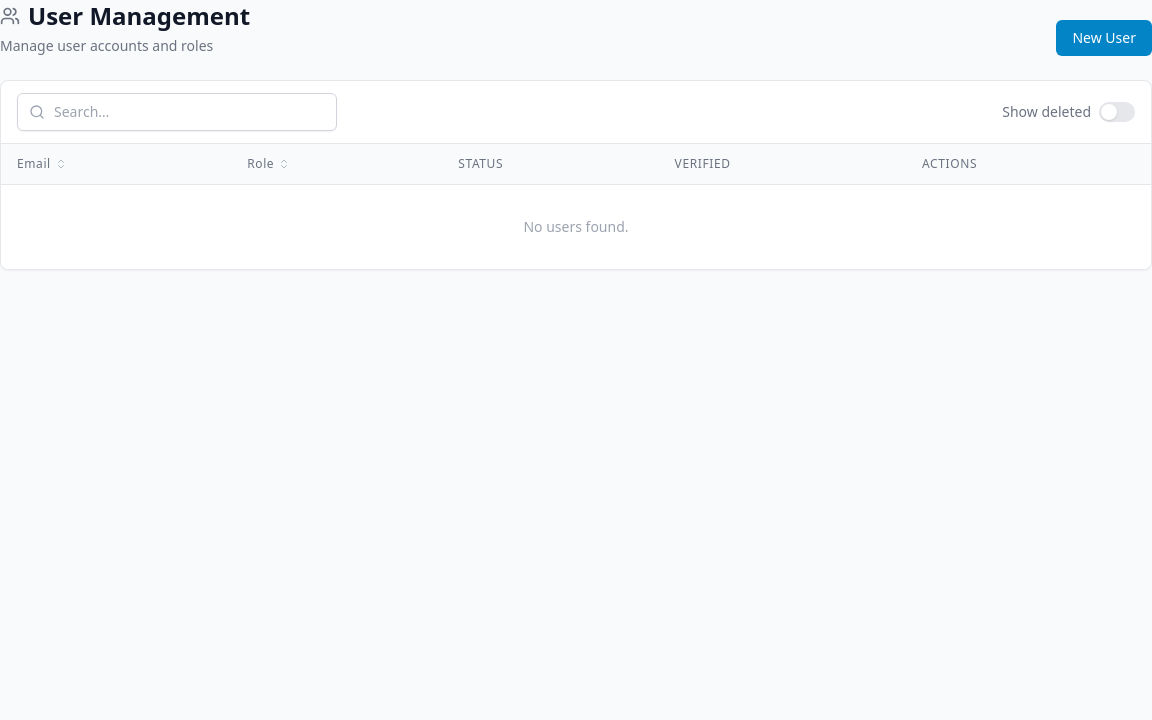
Test: Users admin page › create modal closes when Cancel is clicked
Click the button "New User": point(1104, 38) [1056,20,1151,56]
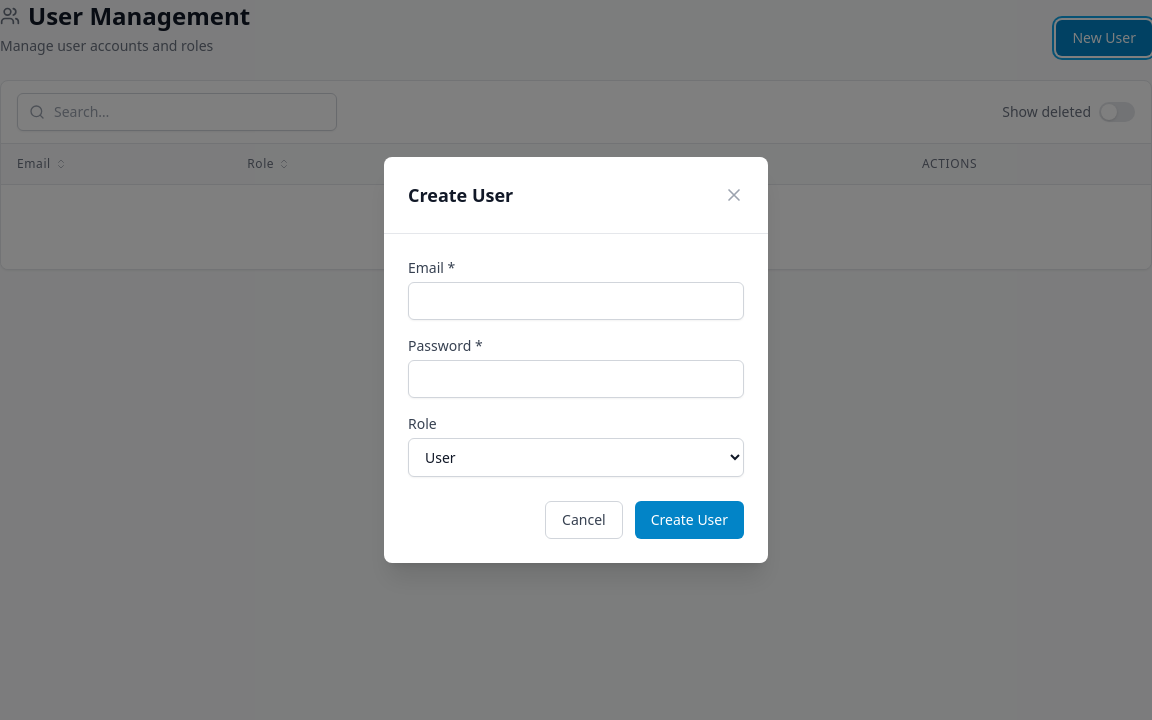
Expected: the heading "Create User" is shown, [408,181,513,209]
Click the button "Cancel": point(584, 520) [545,501,623,539]
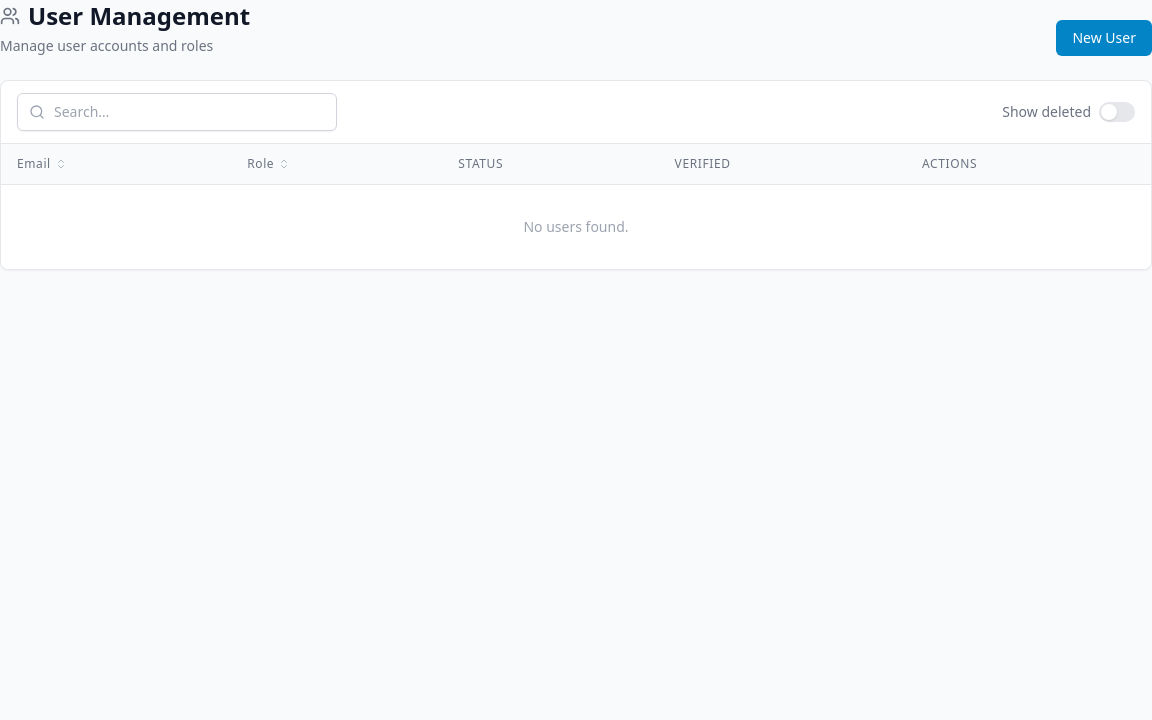
Expected: the heading "Create User" is gone
